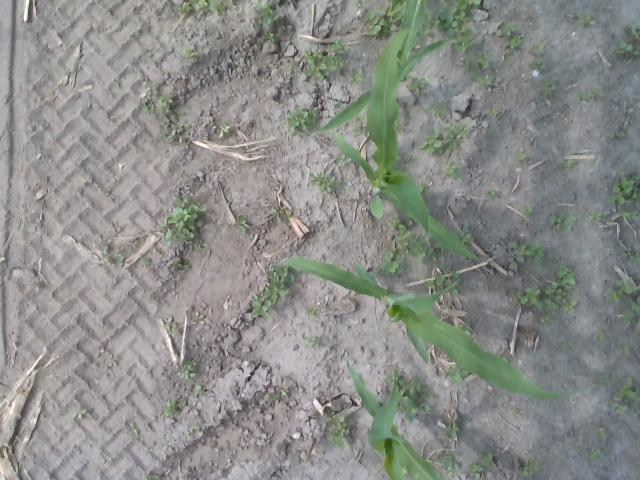Maize: (284, 257, 582, 401), (332, 26, 480, 260), (308, 0, 458, 138), (346, 360, 441, 480)
Weeds: (252, 265, 294, 320), (160, 195, 206, 243), (398, 370, 434, 422), (428, 0, 481, 35), (418, 123, 469, 154), (545, 266, 577, 312), (302, 48, 346, 80), (366, 1, 404, 34), (138, 80, 173, 114), (608, 170, 640, 204), (403, 234, 436, 263), (512, 284, 543, 310), (98, 236, 124, 266), (388, 214, 411, 246), (377, 246, 402, 275), (327, 416, 349, 448), (497, 21, 523, 48), (614, 376, 640, 402), (606, 279, 632, 304), (287, 107, 310, 134), (549, 213, 576, 234), (516, 243, 544, 263), (613, 39, 639, 60), (166, 122, 188, 144), (92, 348, 116, 368), (310, 172, 334, 192), (456, 33, 476, 53), (264, 386, 288, 402), (445, 366, 469, 382), (178, 359, 198, 378), (470, 68, 490, 85), (518, 459, 538, 476), (273, 206, 291, 224), (408, 76, 426, 94), (438, 263, 458, 279), (163, 315, 179, 335), (446, 159, 462, 178), (428, 102, 446, 118), (444, 420, 459, 438), (237, 214, 250, 234), (622, 307, 636, 325), (444, 451, 458, 469), (212, 126, 232, 138), (468, 463, 484, 478), (593, 374, 610, 388), (302, 336, 320, 349), (254, 1, 272, 14), (617, 208, 638, 219), (171, 258, 190, 270), (475, 52, 490, 67), (625, 24, 640, 39), (383, 370, 399, 384), (190, 312, 206, 326), (424, 276, 446, 286), (331, 40, 349, 52), (164, 398, 176, 416), (167, 110, 183, 123), (588, 85, 605, 97), (218, 1, 233, 14), (336, 153, 352, 165), (544, 80, 557, 94), (186, 428, 201, 440), (351, 71, 363, 86), (71, 408, 86, 420), (478, 454, 493, 466), (307, 107, 317, 124), (581, 14, 594, 27), (419, 184, 432, 197), (459, 231, 473, 243), (194, 0, 206, 14), (631, 244, 640, 262), (254, 16, 270, 26), (562, 160, 578, 170), (178, 1, 190, 13), (262, 32, 274, 43), (542, 315, 554, 326), (184, 47, 195, 58), (326, 408, 336, 420), (532, 60, 544, 70), (194, 384, 204, 396), (522, 205, 532, 217), (593, 331, 605, 341), (614, 403, 626, 413), (396, 120, 404, 134), (460, 59, 470, 70), (485, 188, 496, 198), (208, 2, 218, 12), (130, 422, 138, 434), (305, 306, 315, 315), (592, 212, 602, 221), (140, 255, 148, 265), (534, 46, 544, 54), (590, 450, 600, 458), (514, 410, 524, 418), (148, 474, 160, 480), (288, 59, 296, 68), (516, 152, 525, 160), (576, 93, 586, 100), (562, 343, 572, 350), (616, 131, 625, 138), (406, 156, 414, 162), (489, 110, 498, 115), (176, 404, 185, 408), (623, 347, 629, 353), (598, 428, 604, 434), (448, 471, 453, 477)
